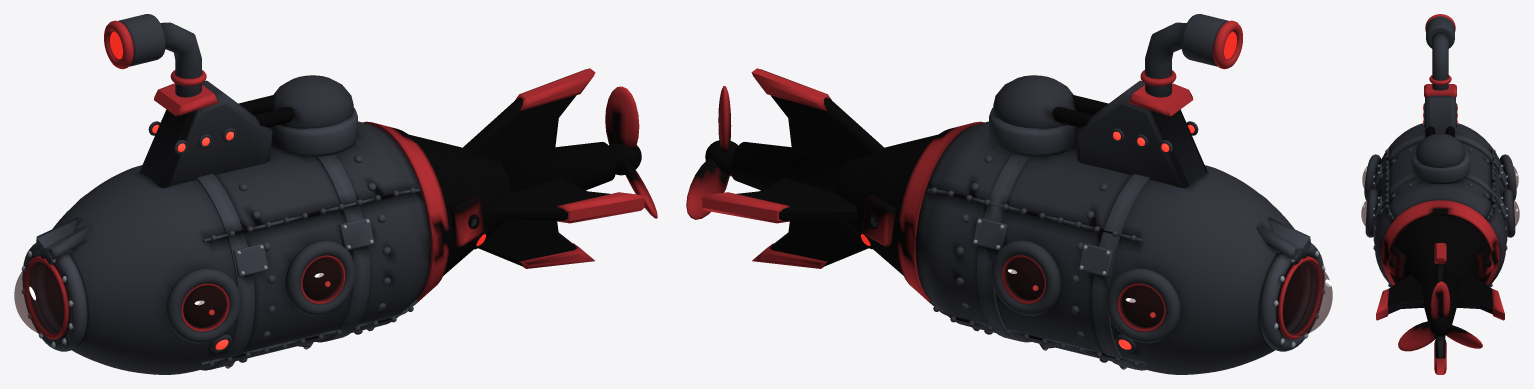
The model's file is enemy_gunner.glb.
3 views of the same model, side by side, from view 1: azimuth 30°, elevation 25°; view 2: azimuth 150°, elevation 25°; view 3: azimuth 270°, elevation 25° (orthographic). The views are drawn at different scales.
Parts seen in each view (by area): view 1: enemy_gunner_body, side_detail.001, propeller.001, turret_guns_mesh; view 2: enemy_gunner_body, side_detail.001, propeller.001, turret_guns_mesh; view 3: enemy_gunner_body, side_detail.001, propeller.001, turret_guns_mesh.
Part boxes in pixels (x1,y1,x2,y2): enemy_gunner_body: [14, 14, 644, 374]; side_detail.001: [76, 187, 419, 366]; propeller.001: [605, 86, 657, 218]; turret_guns_mesh: [238, 95, 294, 127]; enemy_gunner_body: [702, 14, 1332, 374]; side_detail.001: [927, 187, 1270, 366]; propeller.001: [686, 86, 738, 219]; turret_guns_mesh: [1052, 95, 1108, 127]; enemy_gunner_body: [1373, 14, 1507, 374]; side_detail.001: [1361, 148, 1519, 287]; propeller.001: [1398, 281, 1482, 351]; turret_guns_mesh: [1426, 126, 1454, 137].
Size of the model in its own units: 4.57 by 2.55 by 1.64.
